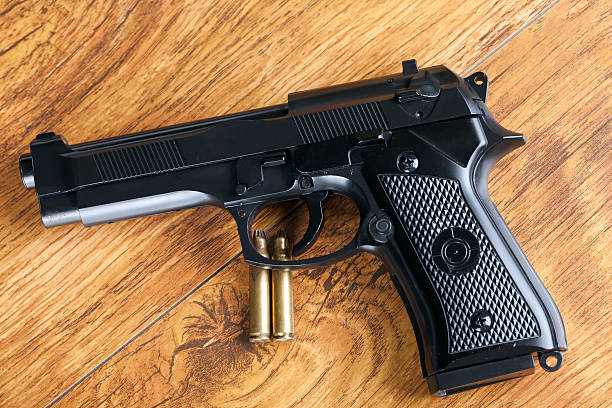gun: (19, 56, 568, 396)
